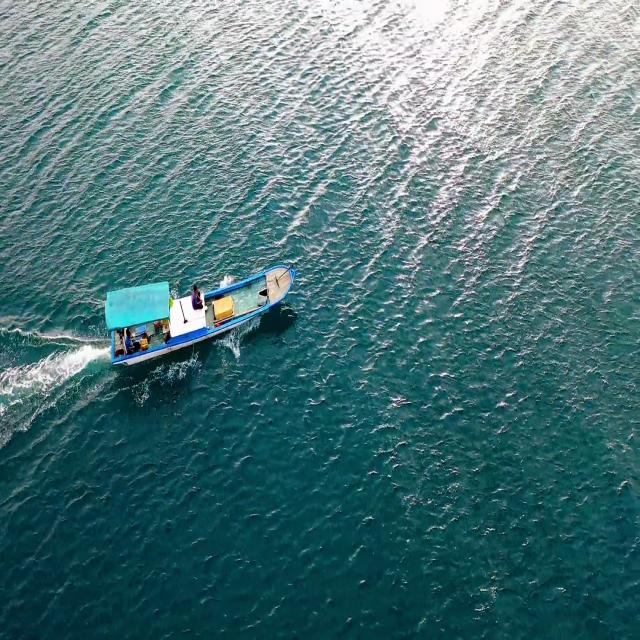ship: (95, 238, 302, 375)
